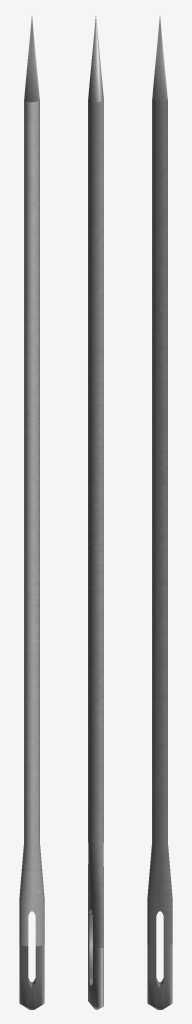
Rendered from Needle.fbx.
3 renders of one model, left to right at view 1: azimuth 90°, elevation 25°; view 2: azimuth 210°, elevation 25°; view 3: azimuth 270°, elevation 25°, orthographic.
Visible parts, largest first — view 1: Cylinder.2; view 2: Cylinder.2; view 3: Cylinder.2.
Part boxes in pixels (<box>): Cylinder.2: <box>19,16,44,1009</box>; Cylinder.2: <box>88,16,103,1009</box>; Cylinder.2: <box>147,16,172,1009</box>.
Bounding box in the file's own units: 154 × 10792 × 246.
1 material, 1 textured.
